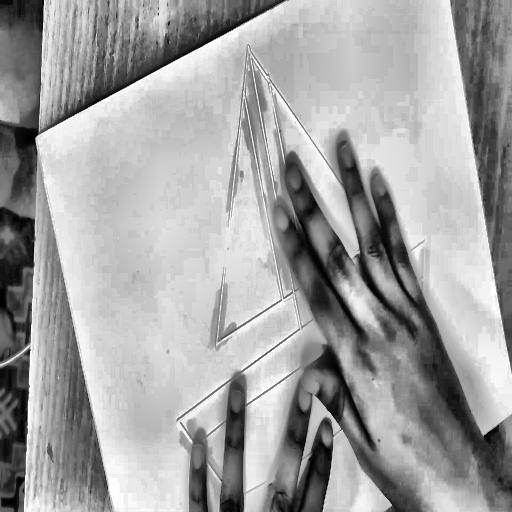boat: (93, 0, 484, 512)
top_left: (31, 130, 43, 149)
